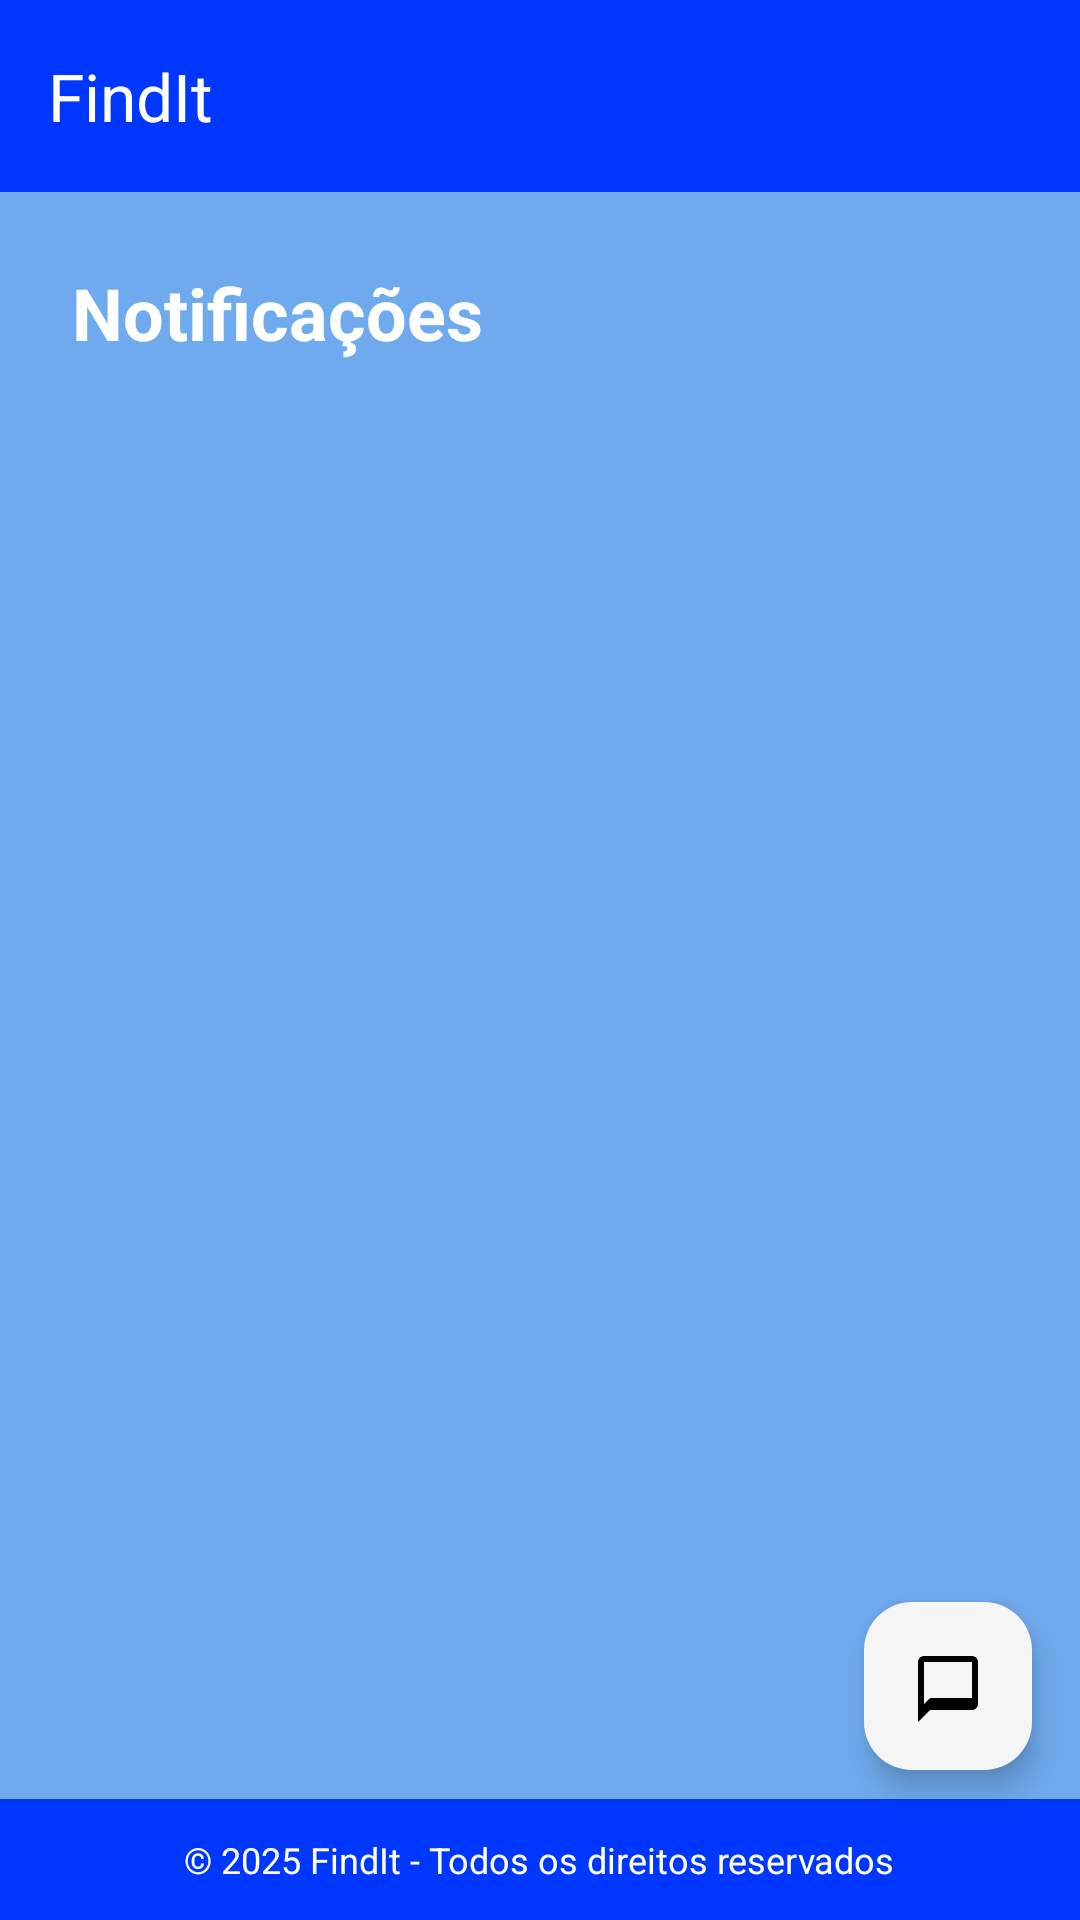

Icon bounding boxes for this 1080w x 1920h phone screenshot, format [x1=x1, y1=y1, x2=x2, y2=y2]:
chat: [x1=864, y1=1602, x2=1032, y2=1770]
